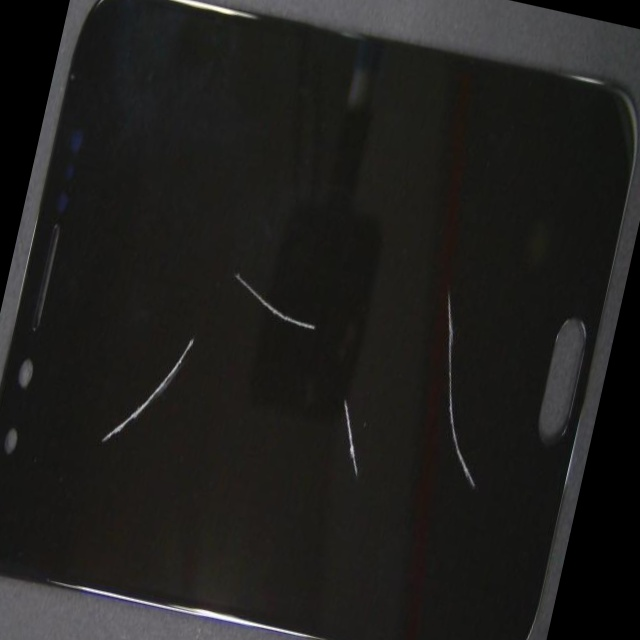scratch: (187, 214, 625, 640), (159, 224, 592, 640), (88, 33, 311, 579), (188, 140, 466, 496)
